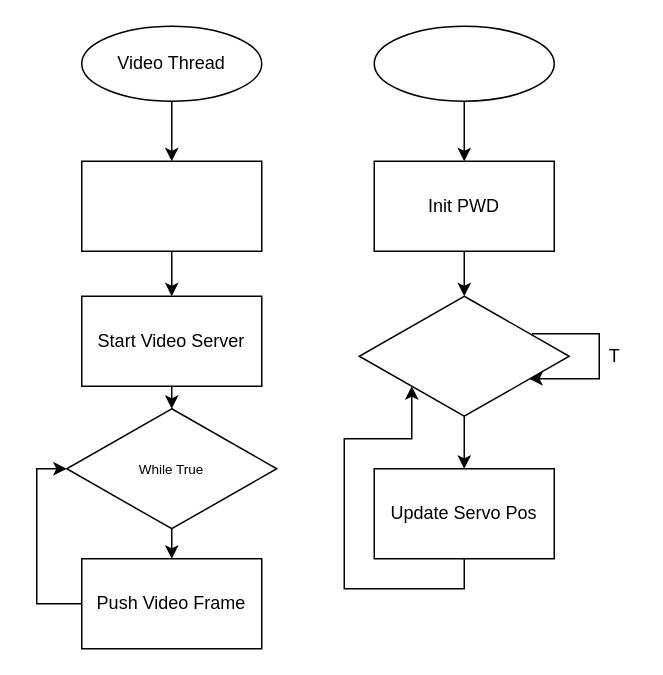
Image size: 663x675. Some labels were removed from this diagram. The shapes that lost their labels are listed below. From the top down, each one's centre as x and y in pixels, then its label:
At [463,63]: "Servo Thread".
At [171,205]: "Init Camera".
At [463,355]: "while(servo_cmd_q) is empty".
